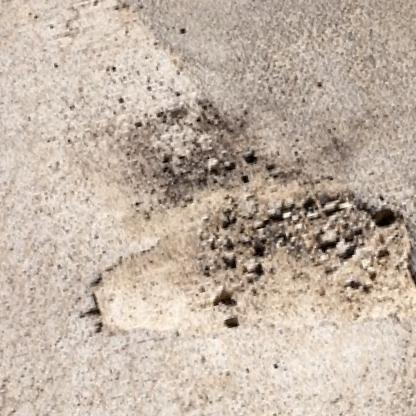pothole: (75, 167, 416, 388)
